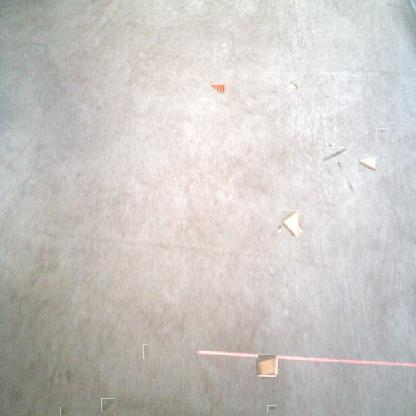dirty: (279, 213, 302, 235), (257, 356, 277, 376), (358, 156, 378, 172), (209, 82, 225, 94), (286, 80, 298, 92)
mark: (324, 144, 347, 165), (59, 371, 73, 385), (101, 398, 114, 411), (345, 177, 354, 191), (60, 406, 69, 416), (377, 127, 386, 136), (143, 344, 148, 359), (79, 380, 87, 388), (268, 404, 275, 413)
